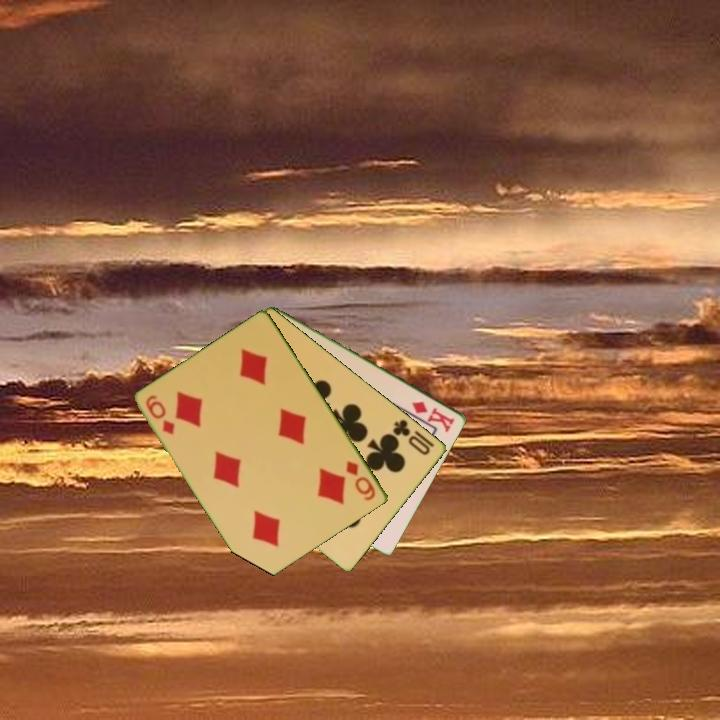10c: (390, 416, 433, 458)
6d: (342, 457, 379, 504), (142, 391, 178, 438)
Kd: (408, 397, 458, 434)
